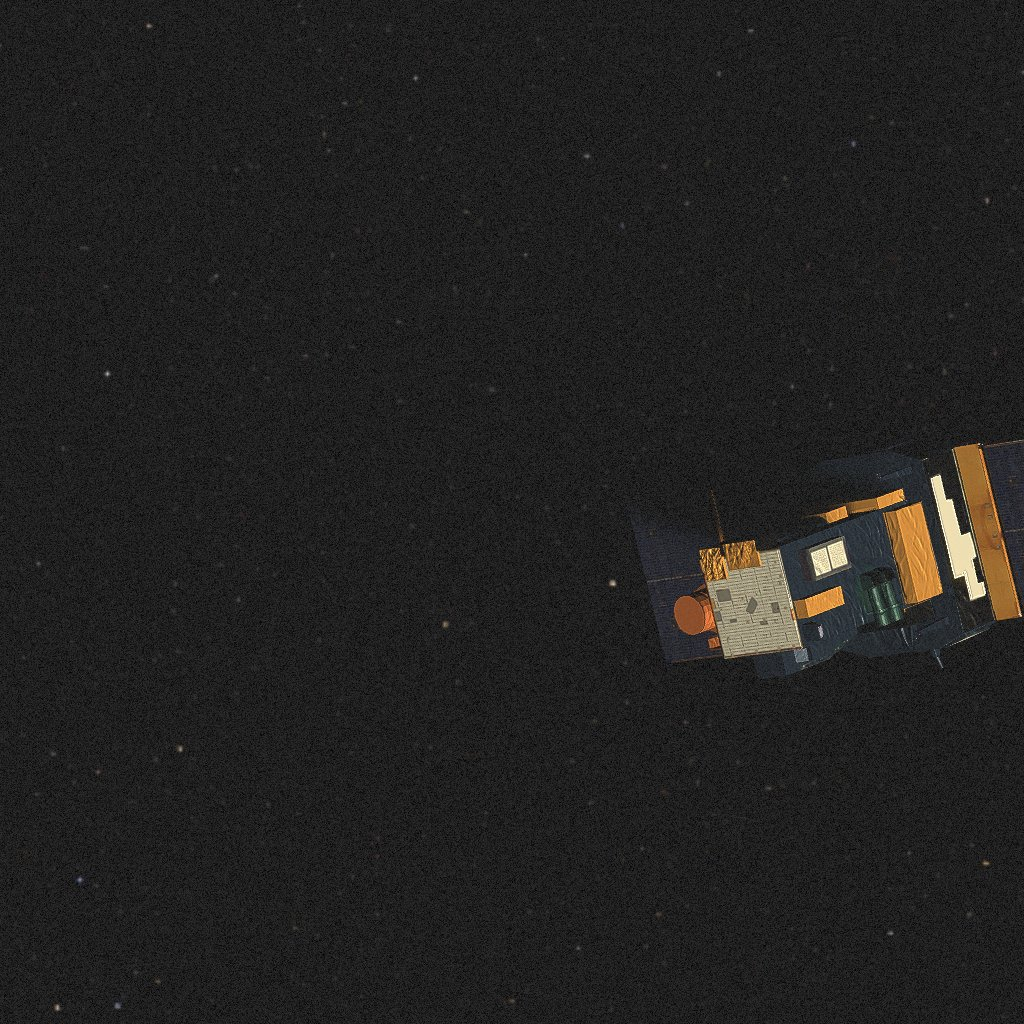soho: (627, 435, 1024, 679)
